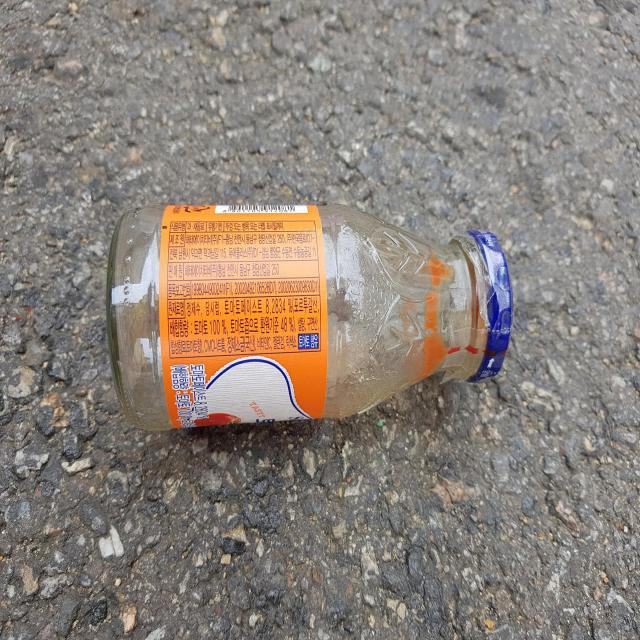glass: (107, 205, 512, 429)
